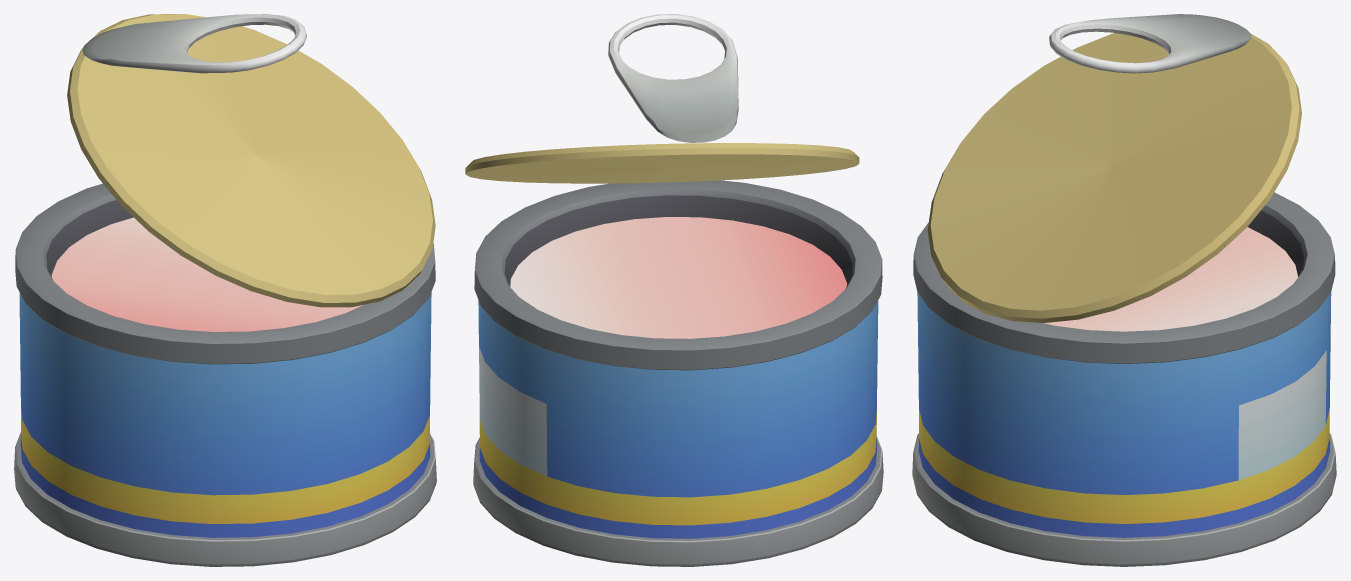
The model's file is Pate_Box.fbx.
The picture shows the model from 3 angles, left to right: view 1: azimuth 30°, elevation 25°; view 2: azimuth 150°, elevation 25°; view 3: azimuth 270°, elevation 25°; orthographic projection. The views are drawn at different scales.
Visible parts, largest first — view 1: Pate_Box; view 2: Pate_Box; view 3: Pate_Box.
Part boxes in pixels (x1,y1,x2,y2): Pate_Box: (14,14,436,566); Pate_Box: (465,14,883,566); Pate_Box: (912,14,1336,566).
Bounding box in the file's own units: 35.56 × 40.84 × 34.86.
